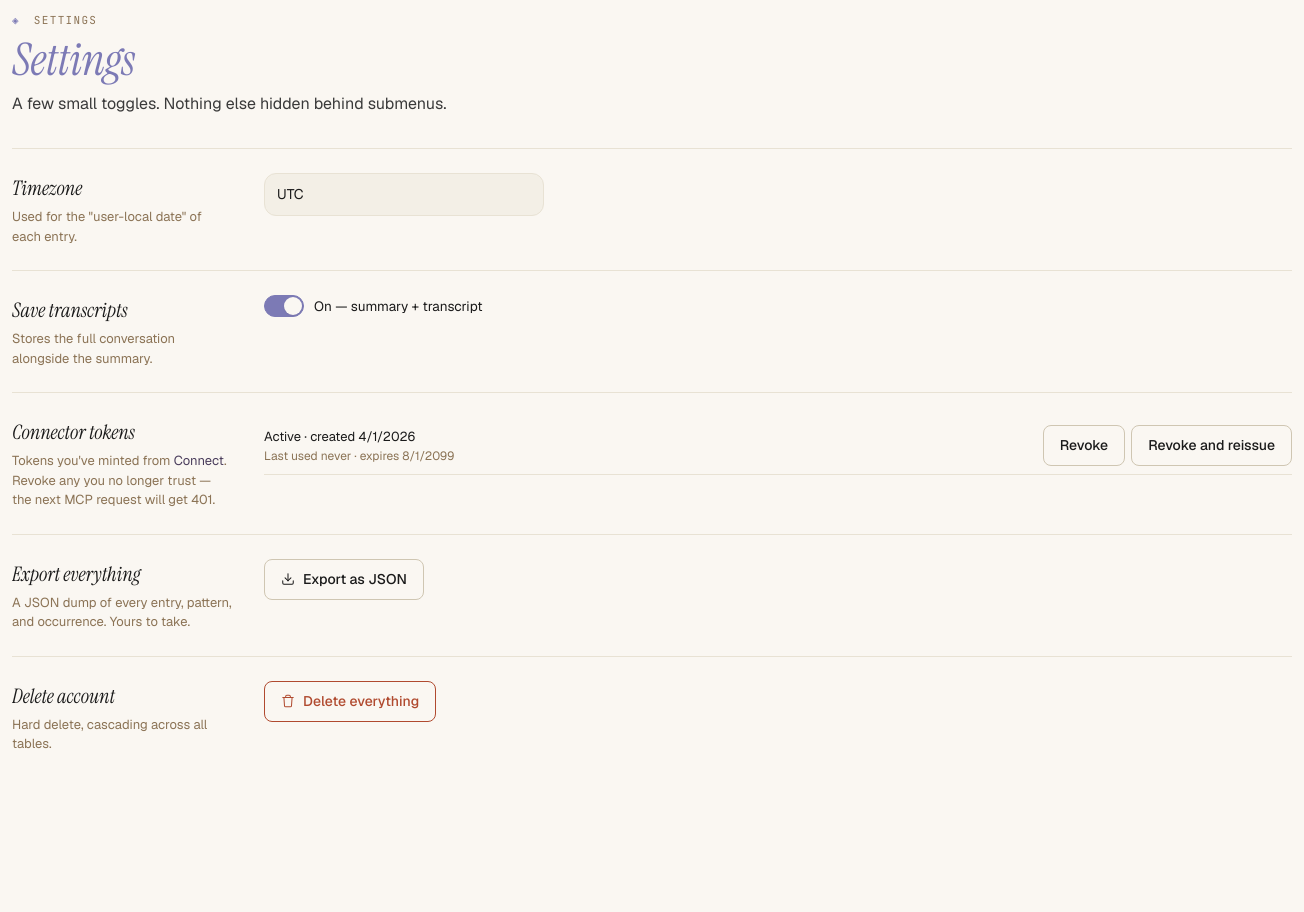
Settings — connector tokens section › reissues a token and surfaces the new value
What coordinates should you click on to do the following:
click the button "Revoke and reissue"
I would click on:
 (1212, 446)
Its box is [1131,425,1292,466].
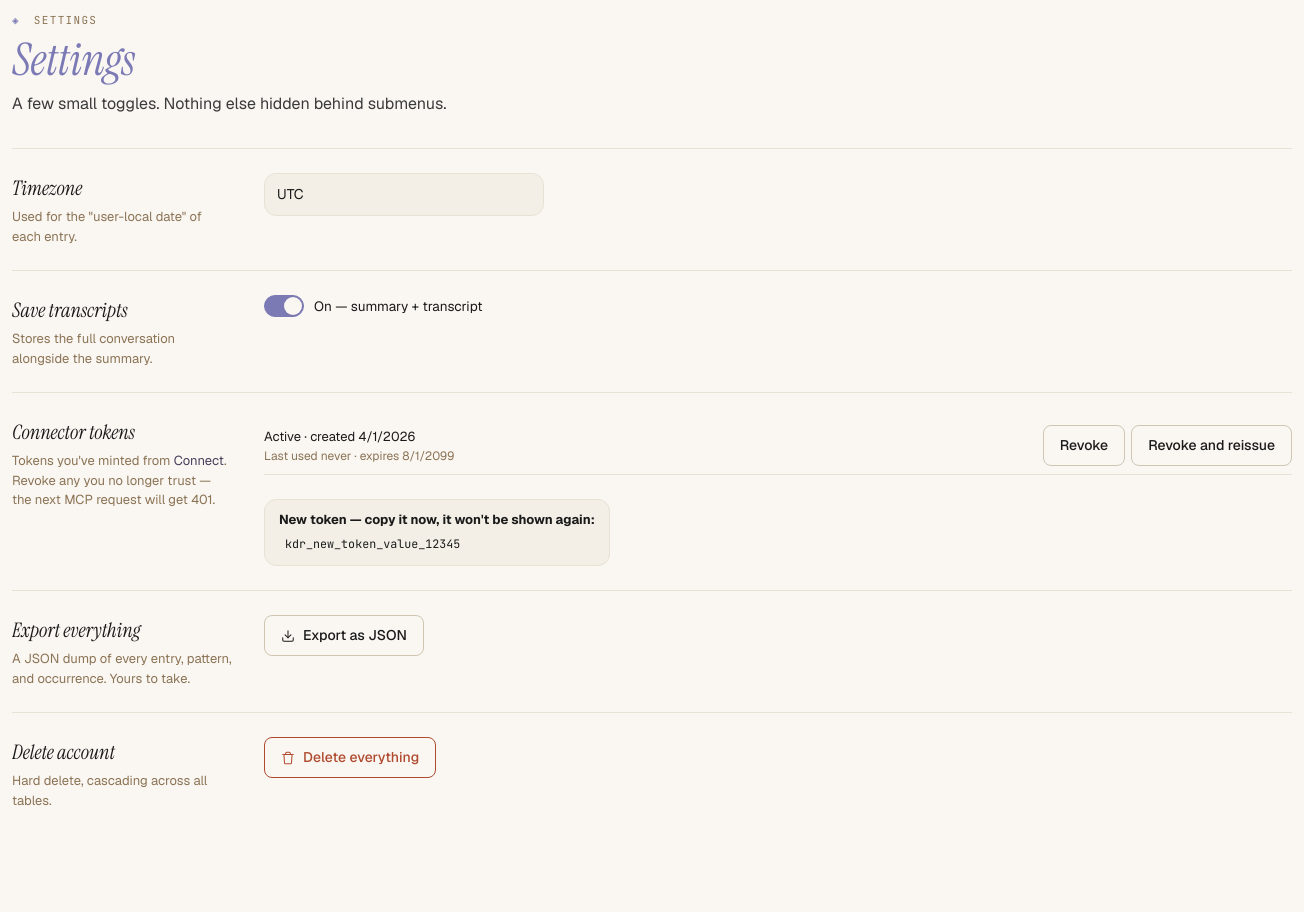
Check: the text "kdr_new_token_value_12345" is shown, box [279,534,595,555]
